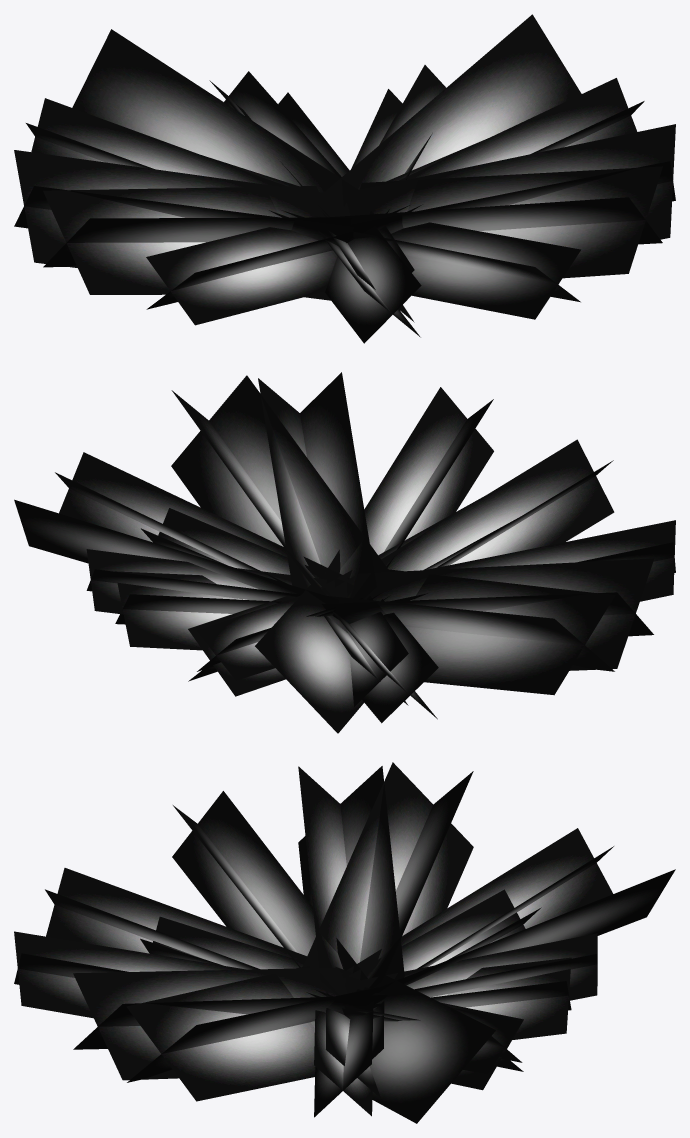
File: vfx_kurp_0481.dae
The picture shows the model from 3 angles, top to bottom: view 1: azimuth 30°, elevation 25°; view 2: azimuth 150°, elevation 25°; view 3: azimuth 270°, elevation 25°; orthographic projection.
Parts seen in each view (by area): view 1: vfx_kurp_0481; view 2: vfx_kurp_0481; view 3: vfx_kurp_0481.
Part boxes in pixels (left/top/right/bottom): vfx_kurp_0481: left=14, top=14, right=675, bottom=343; vfx_kurp_0481: left=14, top=372, right=675, bottom=733; vfx_kurp_0481: left=14, top=762, right=675, bottom=1123.
Size of the model in its own units: 10.26 by 10.25 by 2.63.
Materials: 1 (1 with a texture image).
